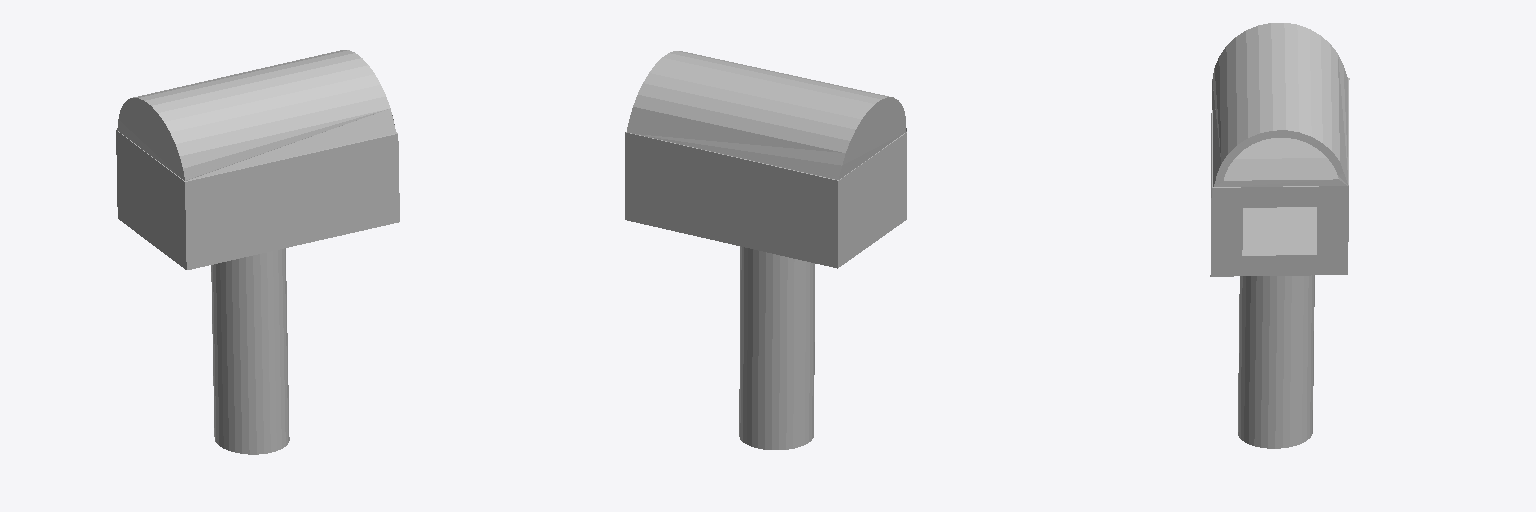
The model's file is buzon.obj.
3 renders of one model, left to right at view 1: azimuth 30°, elevation 25°; view 2: azimuth 150°, elevation 25°; view 3: azimuth 270°, elevation 25°, orthographic.
Visible parts, largest first — view 1: Cilindro.001; view 2: Cilindro.001; view 3: Cilindro.001.
Boxes of the visible parts, <box> form: Cilindro.001: <box>116,50,399,454</box>; Cilindro.001: <box>625,51,906,449</box>; Cilindro.001: <box>1210,23,1349,448</box>.
Size of the model in its own units: 38.75 by 61.04 by 21.34.